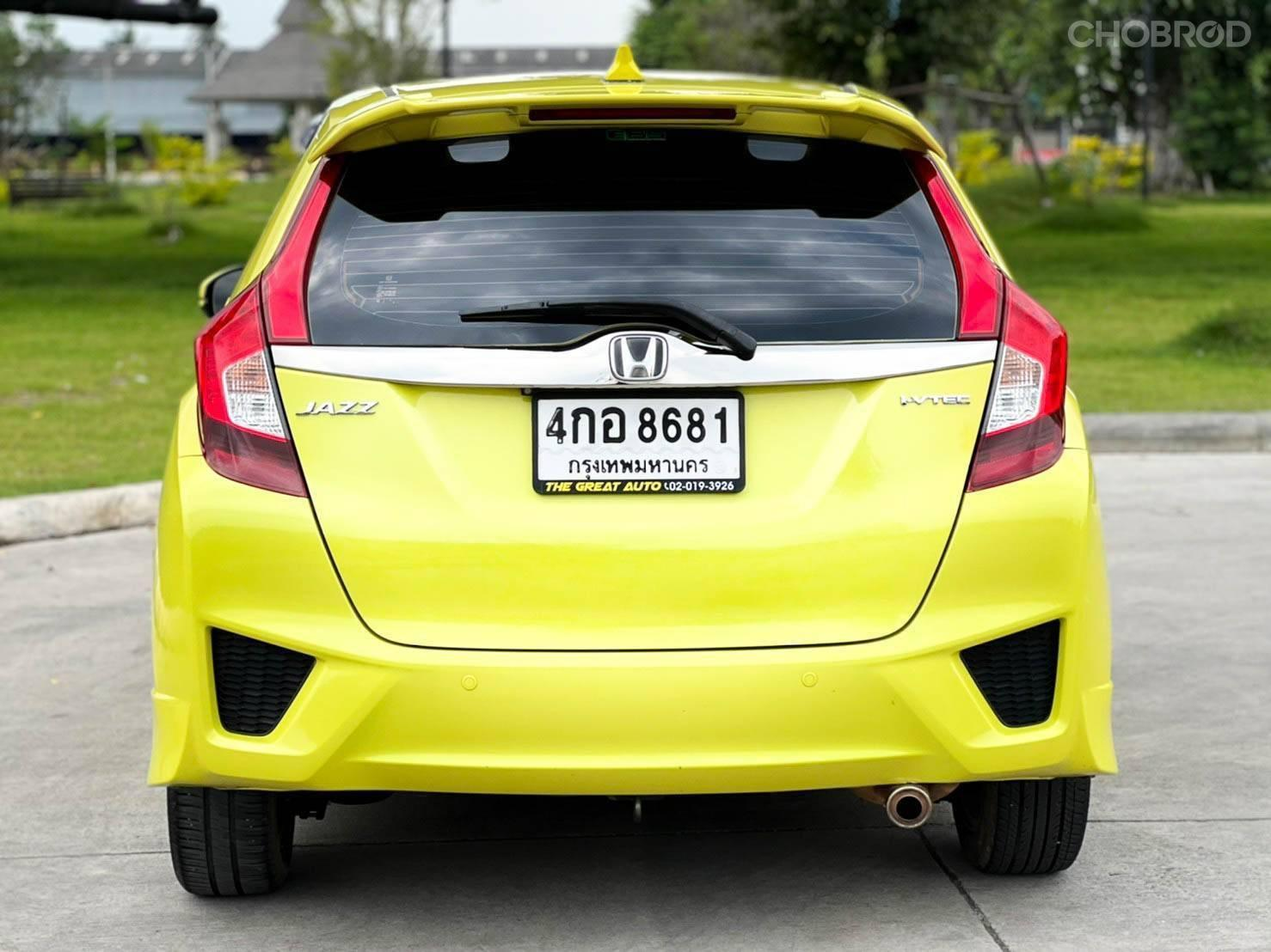license-plate: (528, 385, 747, 498)
